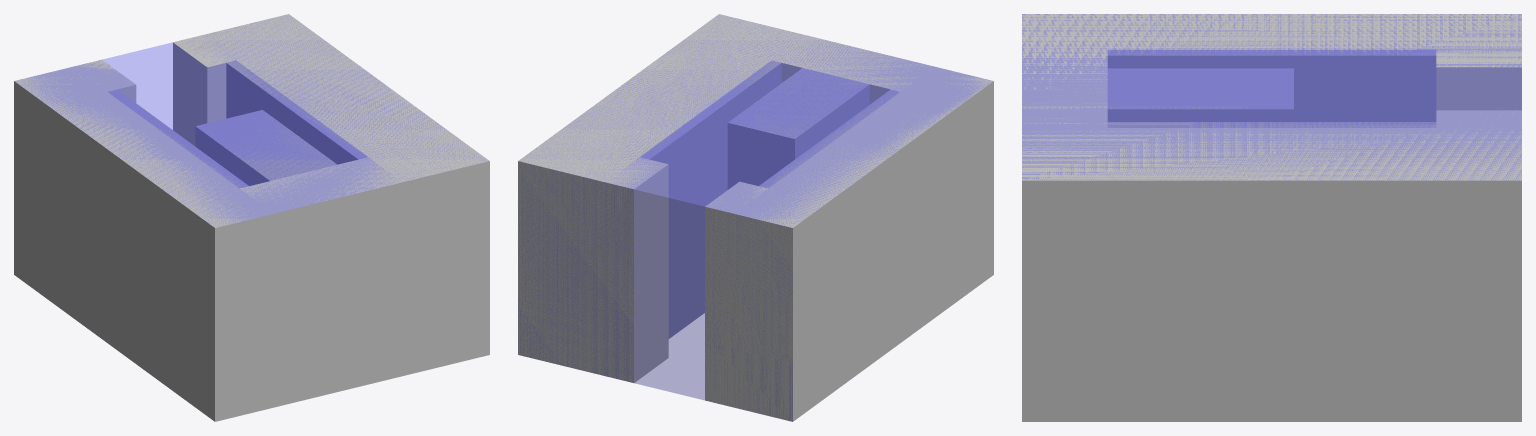
File: DumpCoreContainer.gltf
3 renders of one model, left to right at view 1: azimuth 30°, elevation 25°; view 2: azimuth 150°, elevation 25°; view 3: azimuth 270°, elevation 25°, orthographic. The views are drawn at different scales.
Visible parts, largest first — view 1: DumpLead0x22115c0, logicDumpCoreContainer_pv0x22134f0, DumpCore0x220f2c0, DumpCorePlate0x220f820, DumpCorePlate0x220f730; view 2: DumpLead0x22115c0, logicDumpCoreContainer_pv0x22134f0, DumpCorePlate0x220f820, DumpCore0x220f2c0, DumpCorePlate0x220f730; view 3: DumpLead0x22115c0, logicDumpCoreContainer_pv0x22134f0, DumpCorePlate0x220f730, DumpCore0x220f2c0, DumpCorePlate0x220f820.
Part boxes in pixels (x1,y1,x2,y2): DumpLead0x22115c0: (14, 14, 489, 421); logicDumpCoreContainer_pv0x22134f0: (16, 18, 488, 226); DumpCore0x220f2c0: (195, 110, 336, 185); DumpCorePlate0x220f820: (226, 60, 367, 164); DumpCorePlate0x220f730: (108, 89, 248, 188); DumpLead0x22115c0: (518, 14, 993, 421); logicDumpCoreContainer_pv0x22134f0: (518, 15, 991, 420); DumpCorePlate0x220f820: (640, 60, 781, 338); DumpCore0x220f2c0: (727, 68, 869, 189); DumpCorePlate0x220f730: (759, 89, 900, 188); DumpLead0x22115c0: (1022, 14, 1521, 421); logicDumpCoreContainer_pv0x22134f0: (1022, 14, 1521, 180); DumpCorePlate0x220f730: (1107, 49, 1436, 121); DumpCore0x220f2c0: (1107, 68, 1293, 121); DumpCorePlate0x220f820: (1107, 122, 1436, 127).
Bounding box in the file's own units: 97.61 × 65.81 × 124.
